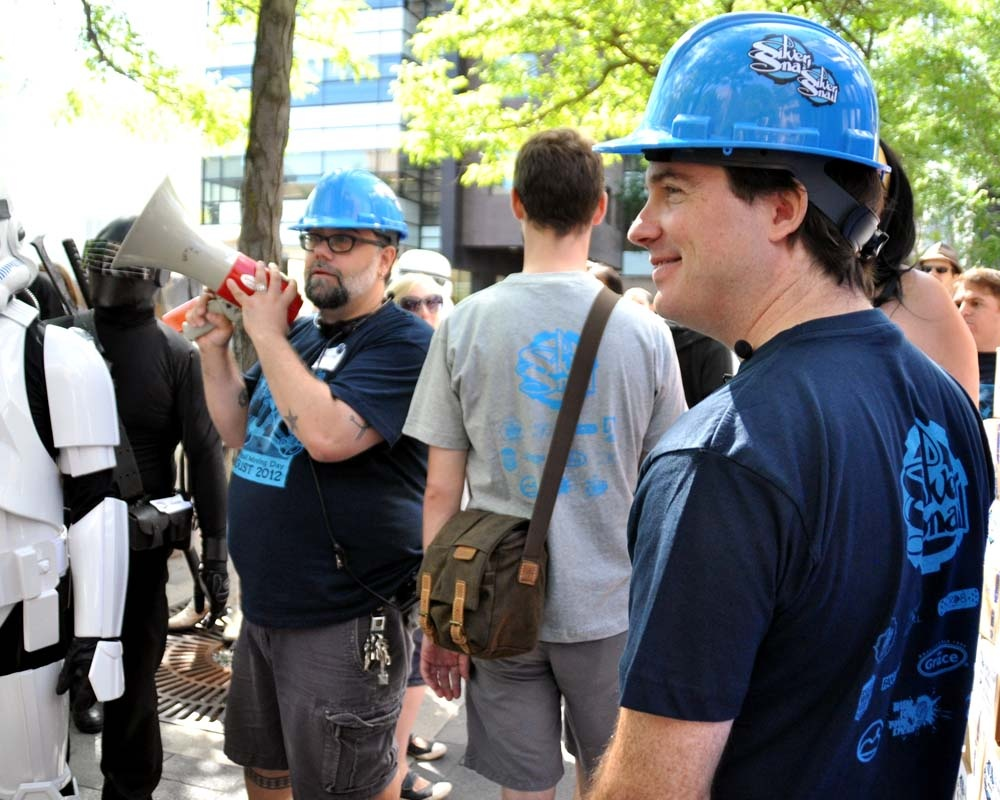blue: (629, 9, 892, 342), (286, 162, 410, 317)
none: (508, 121, 610, 264)
